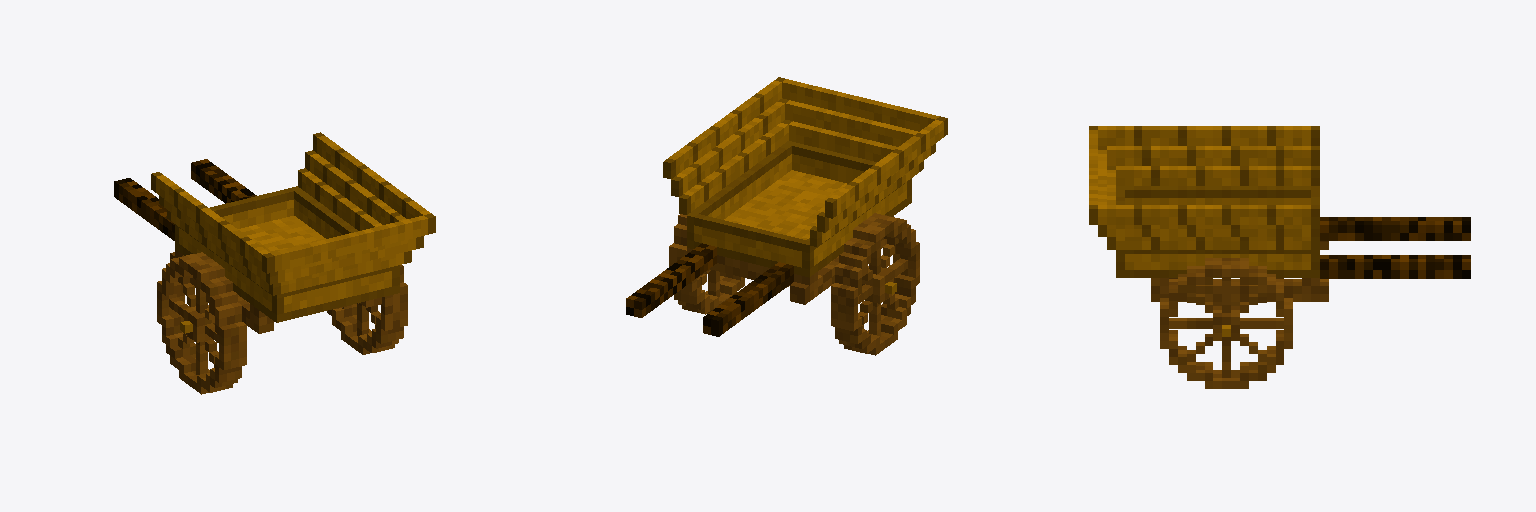
3 renders of one model, left to right at view 1: azimuth 30°, elevation 25°; view 2: azimuth 150°, elevation 25°; view 3: azimuth 270°, elevation 25°, orthographic.
Parts seen in each view (by area): view 1: model_Cart_1.obj; view 2: model_Cart_1.obj; view 3: model_Cart_1.obj.
Part boxes in pixels (bbox=[...]): model_Cart_1.obj: bbox=[114, 132, 435, 394]; model_Cart_1.obj: bbox=[626, 77, 947, 355]; model_Cart_1.obj: bbox=[1089, 126, 1470, 388].
Bounding box in the file's own units: 26 × 22 × 43.
Materials: 1 (1 with a texture image).